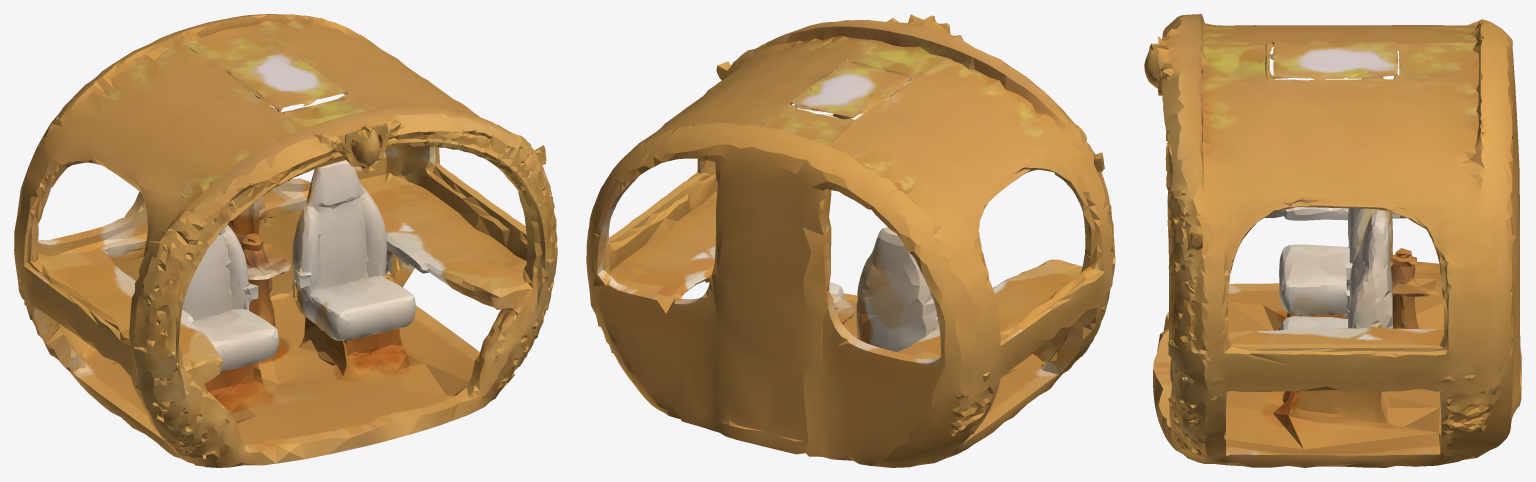
The model's file is valkyrie_cockpit.glb.
3 renders of one model, left to right at view 1: azimuth 30°, elevation 25°; view 2: azimuth 150°, elevation 25°; view 3: azimuth 270°, elevation 25°, orthographic. The views are drawn at different scales.
Visible parts, largest first — view 1: valkyrie_cockpit; view 2: valkyrie_cockpit; view 3: valkyrie_cockpit.
Part boxes in pixels (x1,y1,x2,y2): valkyrie_cockpit: (14,14,557,467); valkyrie_cockpit: (586,14,1115,467); valkyrie_cockpit: (1144,14,1521,467).
Size of the model in its own units: 1.73 by 1.24 by 1.25.
1 material, 1 textured.
